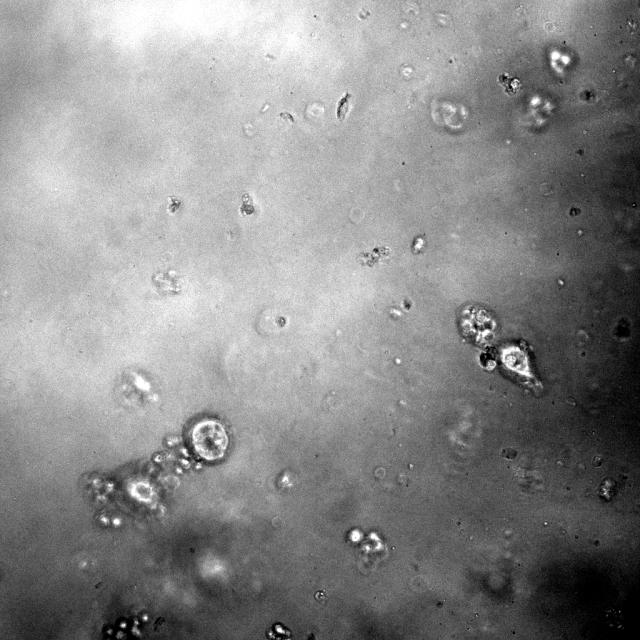organoid: (80, 410, 233, 525), (456, 302, 542, 390), (346, 527, 388, 570), (102, 611, 149, 639), (498, 73, 521, 94), (265, 622, 291, 639), (239, 193, 254, 215), (167, 195, 181, 214), (592, 455, 603, 468)
